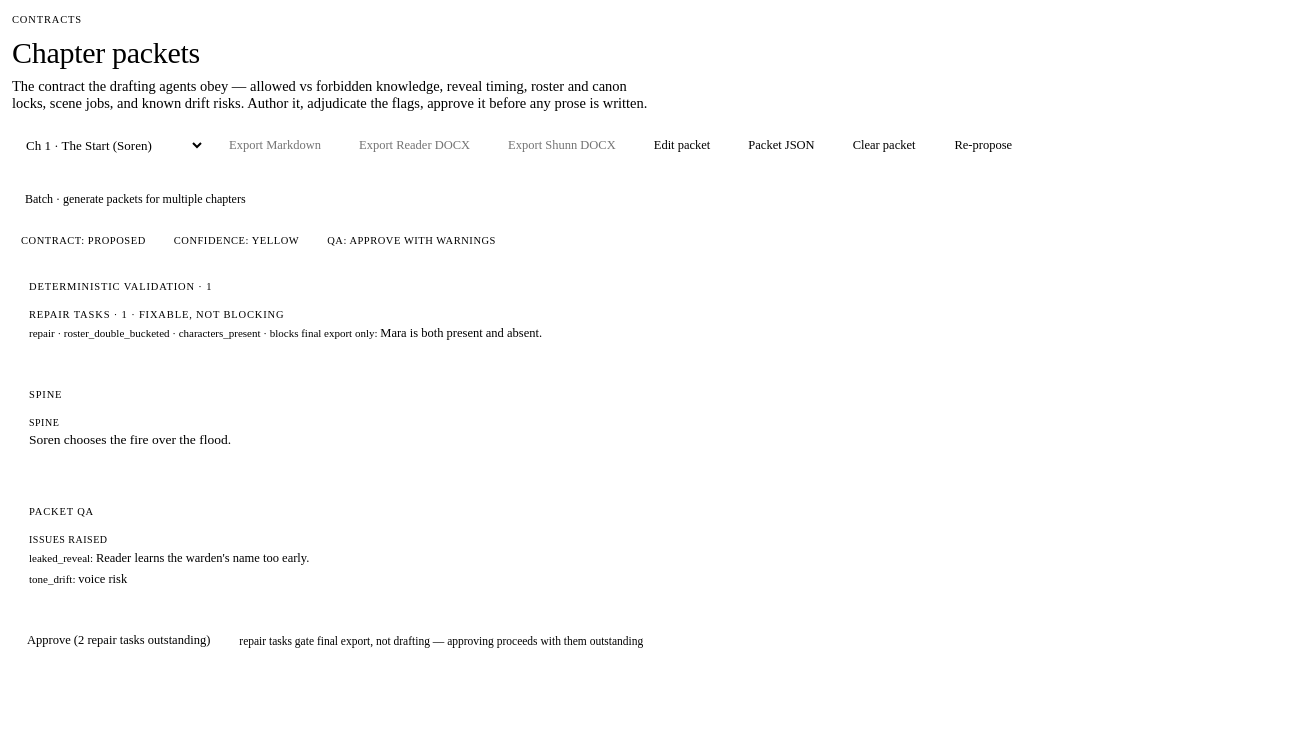
Test case: PacketsScreen raw packet JSON › toggles a pretty-printed canonical JSON view of the packet body
Click the button "Packet JSON".
click(781, 145)  # box x1=734 y1=128 x2=829 y2=162
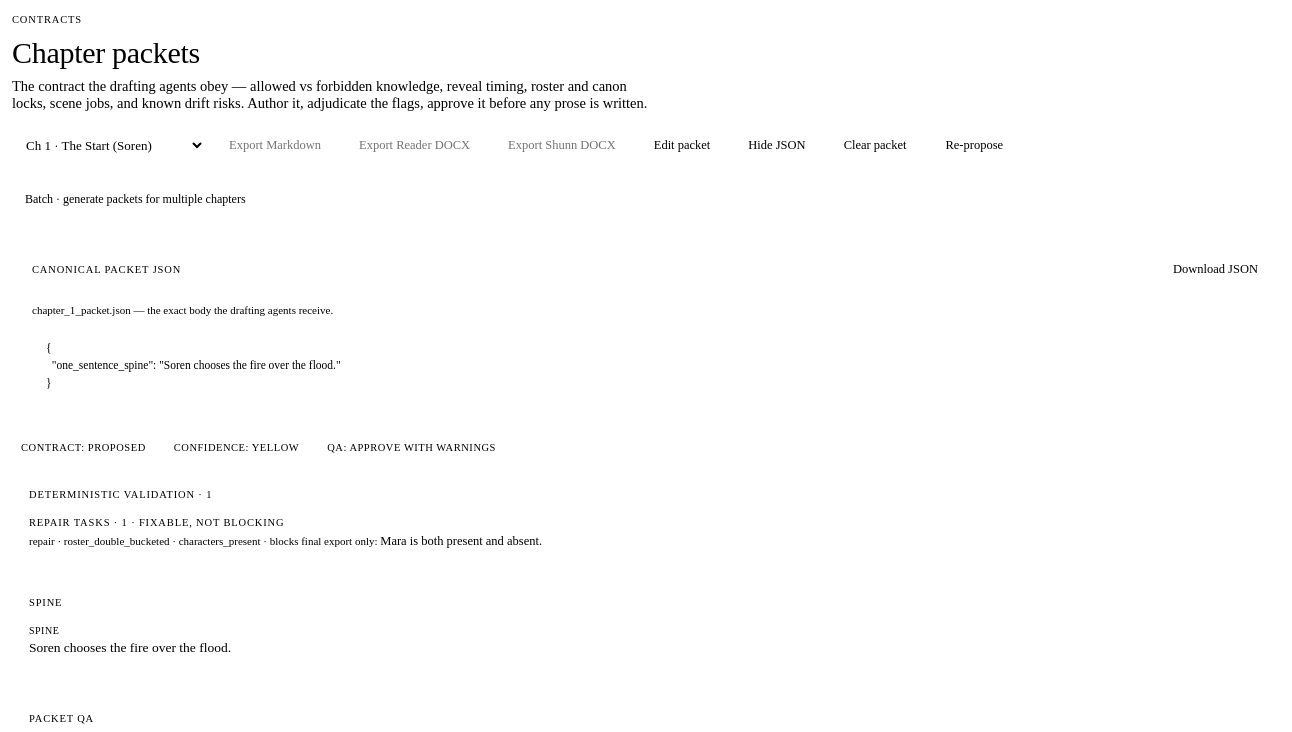
Expected: the text with test id "packet-json" shows "\"one_sentence_spine\"", x1=46 y1=342 x2=341 y2=388
Expected: the text with test id "packet-json" shows "Soren chooses the fire over the flood.", x1=46 y1=342 x2=341 y2=388
Click the button "Hide JSON".
click(777, 145)  # box x1=734 y1=128 x2=820 y2=162
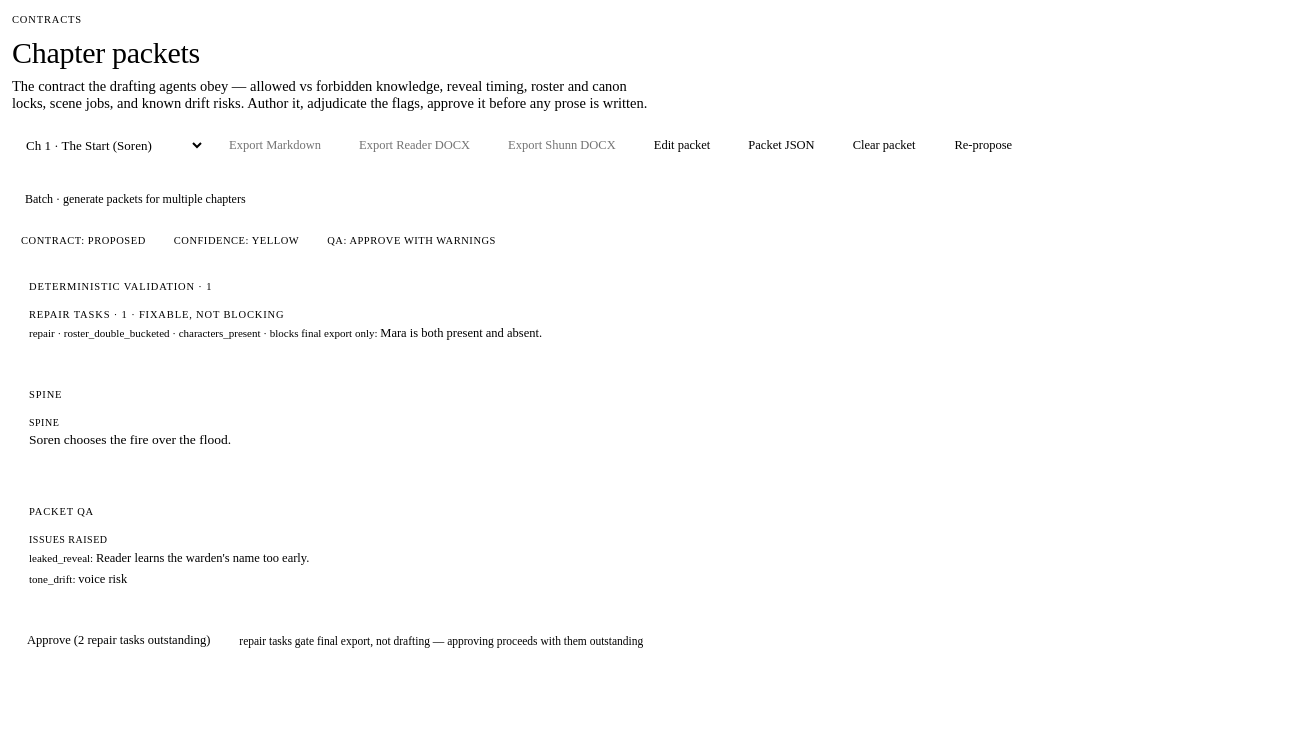
Expected: the text with test id "packet-json" is gone
